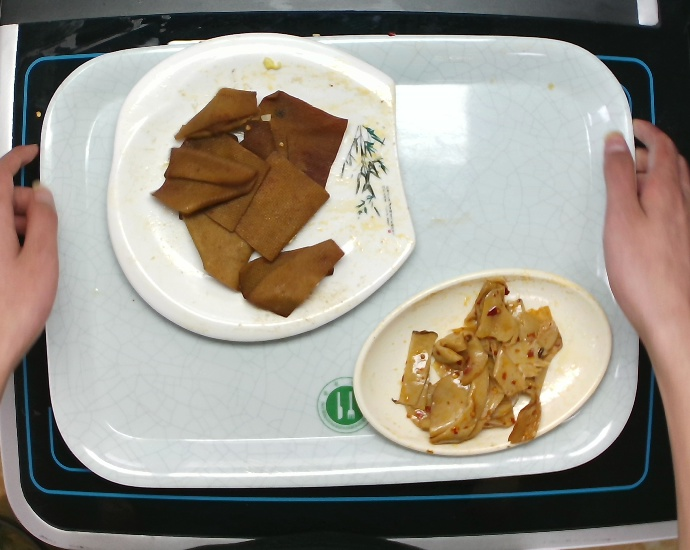JYsf-Mian_Pan: (99, 28, 420, 350)
JYsf-Tuo_Yuan_Wan: (344, 265, 625, 464)
